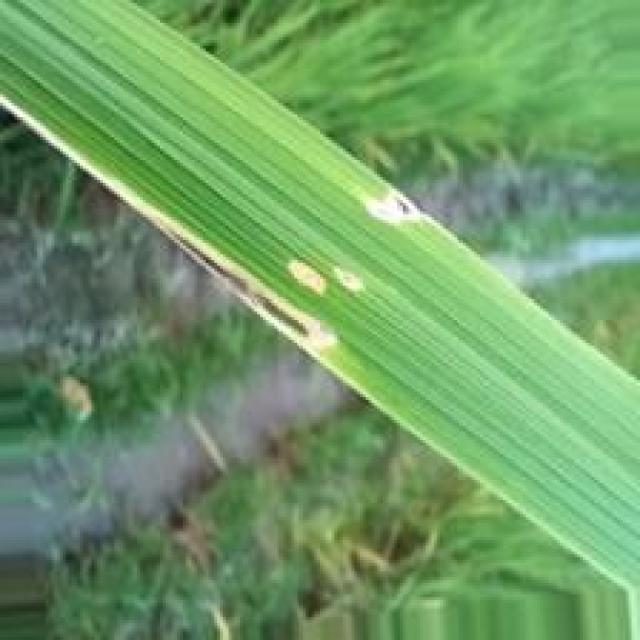Rice_Hispa: (0, 94, 342, 359), (356, 188, 424, 230), (288, 260, 367, 292)
